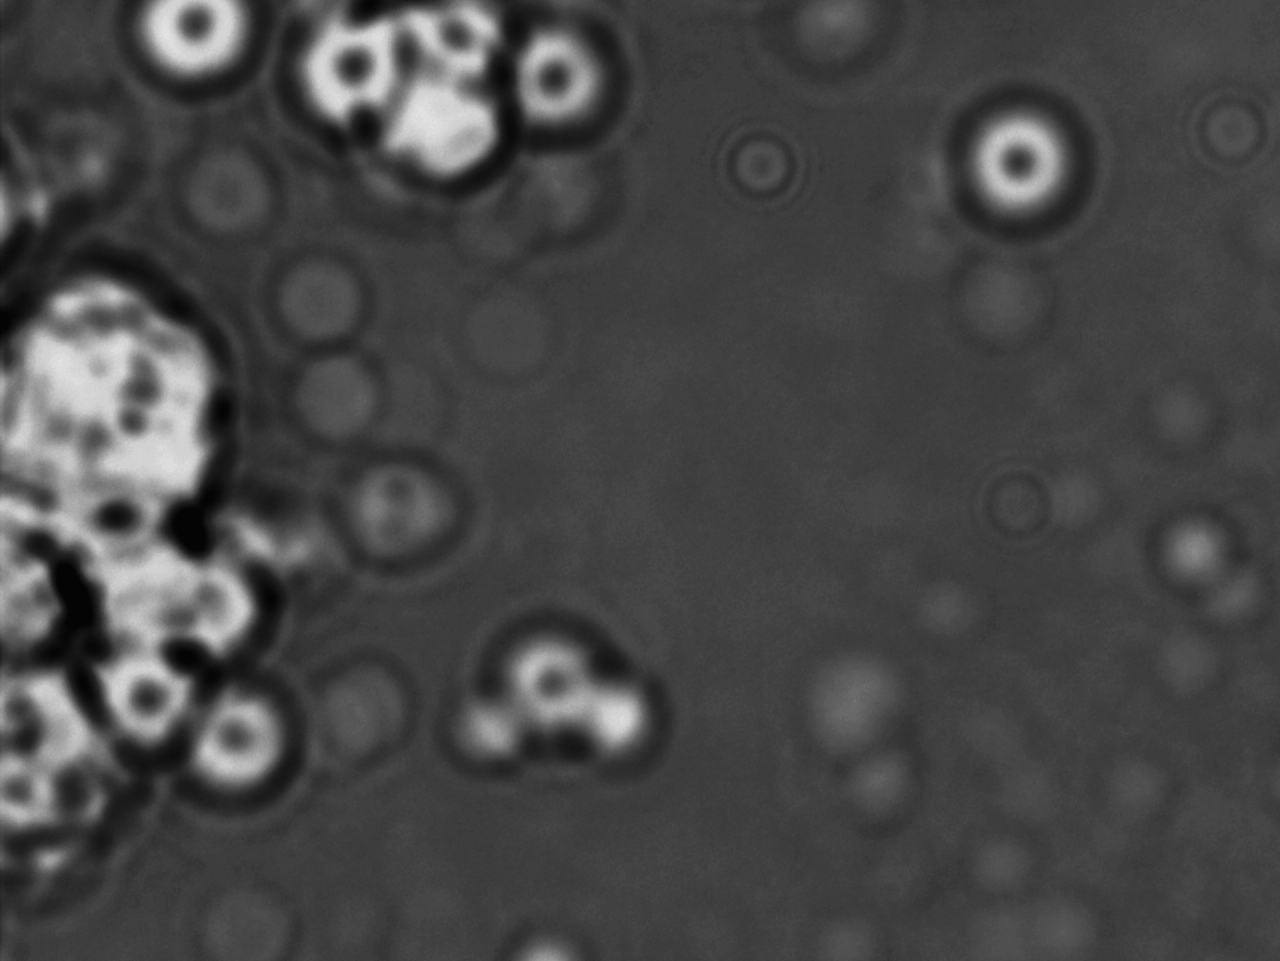depth:32: (941, 82, 1108, 250), (501, 20, 627, 142)
